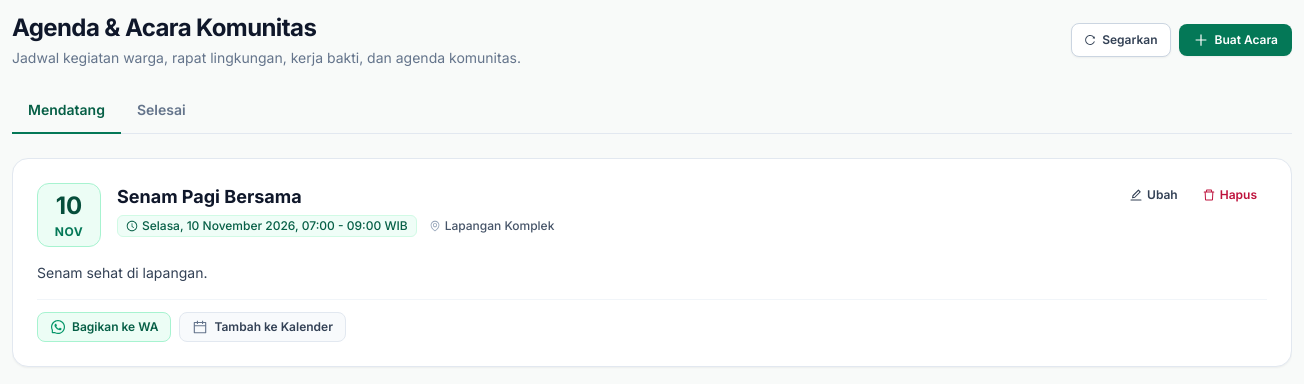
Scenario: TenantEvents Component Tests (RTRW-3.2c) › (c) href tombol Tambah ke Kalender diawali https://calendar.google.com/calendar/render?action=TEMPLATE dan hanya muncul di tab Mendatang
The width and height of the screenshot is (1304, 384).
Expected: the heading "Senam Pagi Bersama" is shown, [117, 186, 302, 207]
Expected: the link "Tambah ke Kalender" is shown, [179, 312, 346, 342]
Click the button "Selesai": (161, 117) [121, 100, 202, 134]
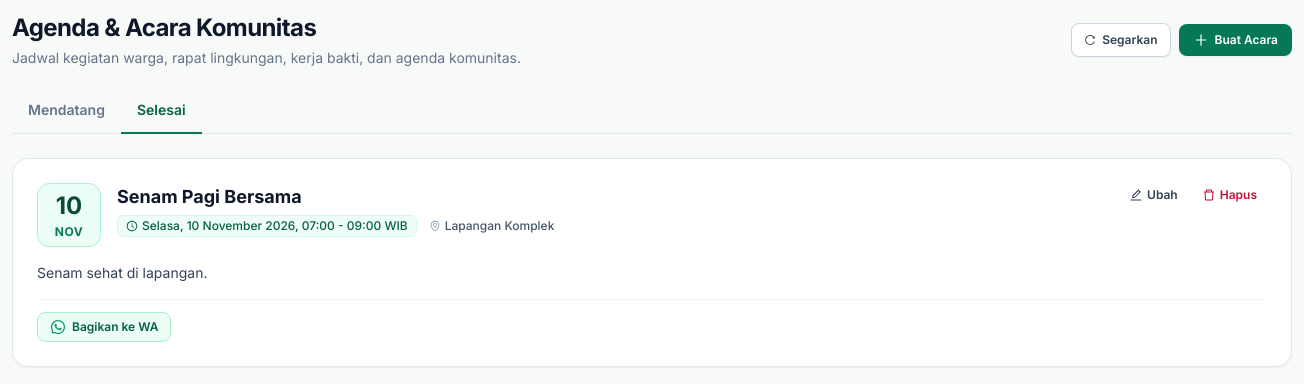
Expected: the link "Tambah ke Kalender" is gone
